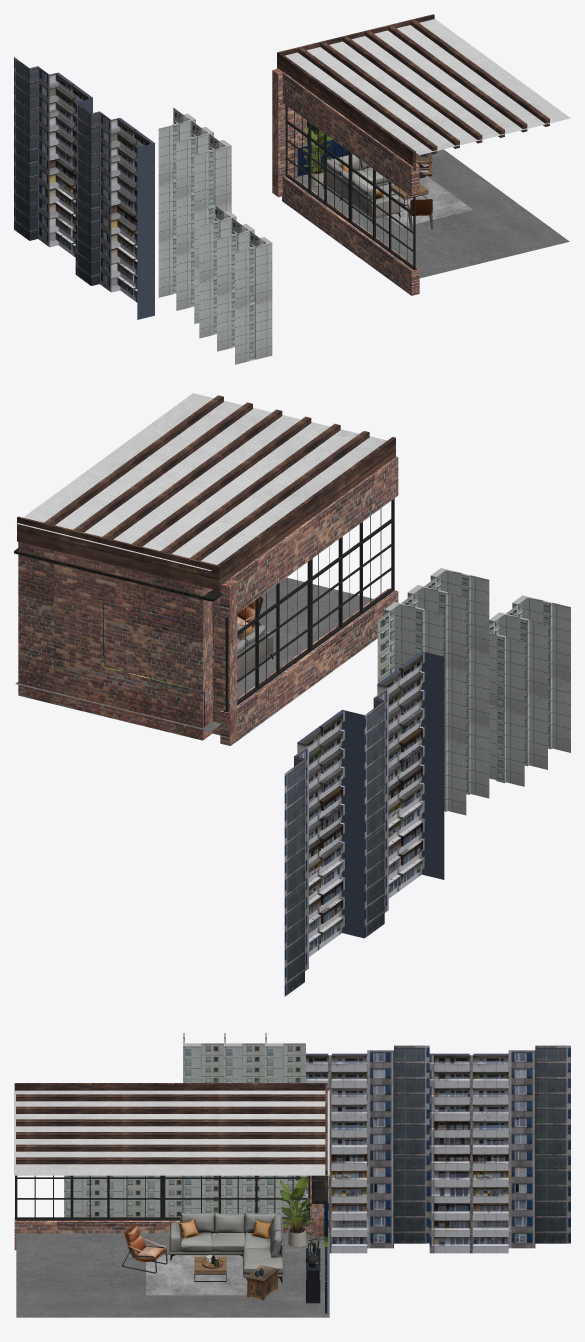
Rendered from LoftInterior.glb.
The picture shows the model from 3 angles, top to bottom: view 1: azimuth 30°, elevation 25°; view 2: azimuth 150°, elevation 25°; view 3: azimuth 270°, elevation 25°; orthographic projection. The views are drawn at different scales.
Parts seen in each view (by area): view 1: Plane.006, Plane.001, Plane, Plane.004, Plane.005, Cube.004, Cube.001, Cube.005, Plane.002, Cube.002, Cube, node_0_Material.005_0 (+4 smaller); view 2: Plane.006, Cube, Plane.001, Plane.004, Plane.005, Cube.004, Cube.002, Cube.001, Cube.005, Plane.002, Plane, node_0_Material.005_0 (+1 smaller); view 3: Plane.006, Plane, Plane.001, Cube.004, Plane.004, node_0_Material.005_0, Plane.005, Plane.003, Plane.002, Cube.002, Cube.005, node_0.004_Material.014_0 (+6 smaller).
Boxes of the visible parts, x1,y1,x2,y2 form: Plane.006: [14, 57, 154, 319]; Plane.001: [285, 19, 570, 155]; Plane: [297, 149, 569, 278]; Plane.004: [158, 108, 231, 323]; Plane.005: [199, 206, 272, 364]; Cube.004: [297, 20, 549, 154]; Cube.001: [282, 72, 419, 196]; Cube.005: [282, 175, 419, 295]; Plane.002: [285, 105, 417, 269]; Cube.002: [277, 14, 434, 170]; Cube: [272, 68, 331, 197]; node_0_Material.005_0: [323, 154, 401, 224]; Plane.006: [284, 651, 444, 996]; Cube: [18, 542, 237, 744]; Plane.001: [15, 393, 387, 570]; Plane.004: [377, 568, 489, 815]; Plane.005: [489, 595, 570, 786]; Cube.004: [44, 395, 369, 560]; Cube.002: [17, 437, 395, 590]; Cube.001: [220, 456, 398, 617]; Cube.005: [220, 588, 398, 745]; Plane.002: [223, 498, 394, 712]; Plane: [15, 577, 373, 731]; node_0_Material.005_0: [237, 625, 273, 678]; Plane.006: [306, 1045, 570, 1253]; Plane: [16, 1233, 329, 1317]; Plane.001: [14, 1090, 329, 1175]; Cube.004: [16, 1094, 325, 1164]; Plane.004: [183, 1033, 305, 1217]; node_0_Material.005_0: [169, 1212, 283, 1282]; Plane.005: [64, 1175, 182, 1217]; Plane.003: [146, 1255, 247, 1295]; Plane.002: [15, 1175, 309, 1220]; Cube.002: [14, 1083, 327, 1191]; Cube.005: [14, 1217, 309, 1250]; node_0.004_Material.014_0: [280, 1177, 313, 1248].
Bounding box in the file's own units: 20.37 × 13.36 × 27.17.
Materials: 18 (17 with a texture image).
